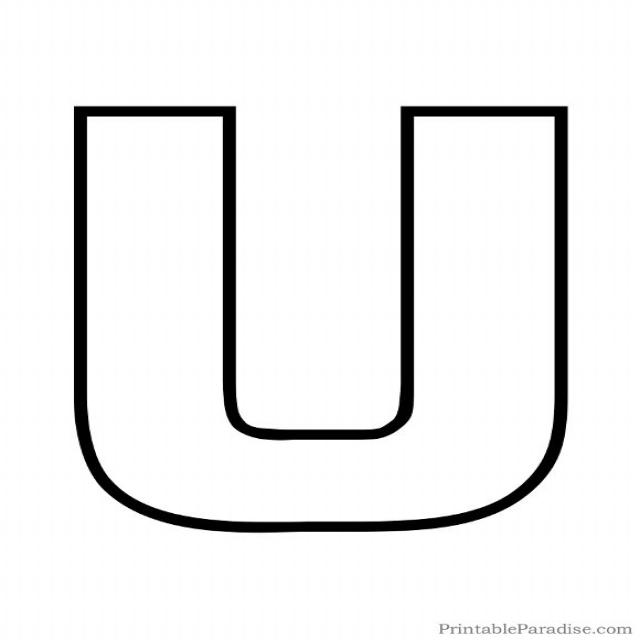U: (32, 61, 596, 582)
